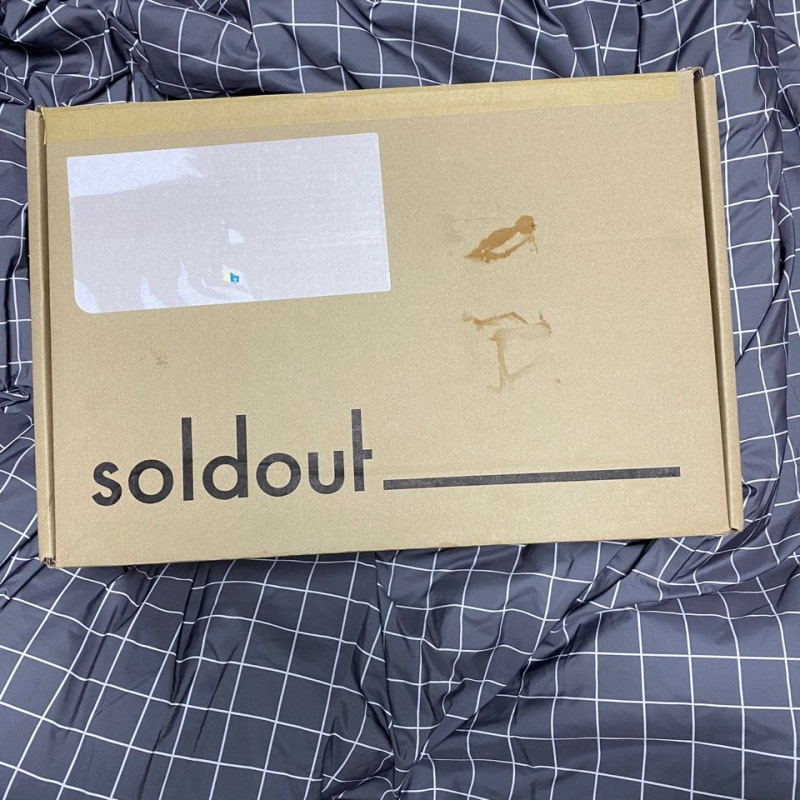undamaged: (23, 60, 753, 578)
